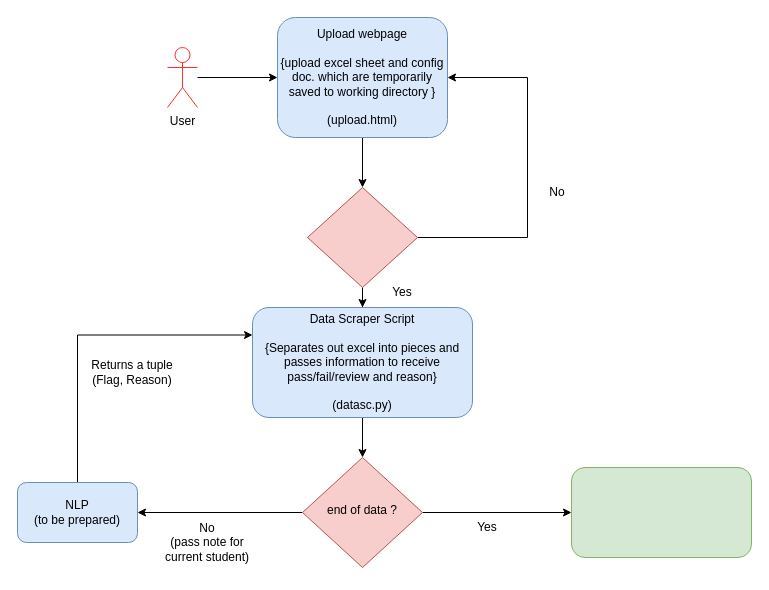
This 769x590 diagram has some shape labels left out. The box of each missing label's shape, as (x1, y1, x2, y2) in pixels:
Are files uploaded ?: (306, 186, 418, 288)
Result webpage with download option (excel_table.html): (570, 466, 752, 558)
